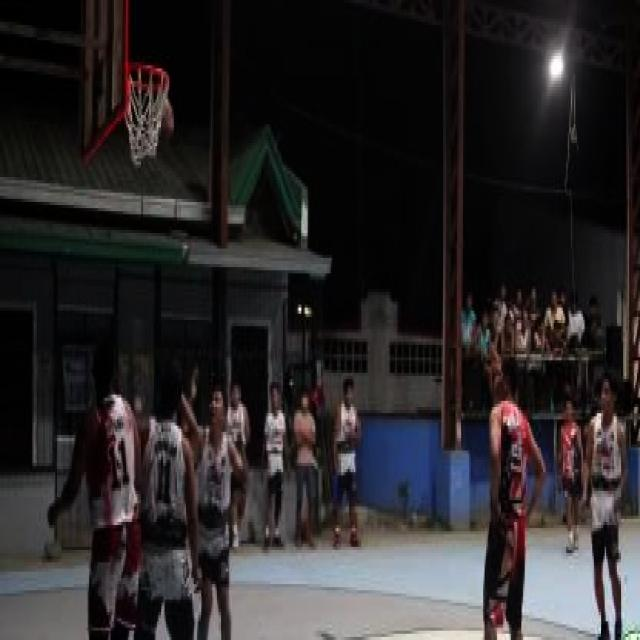ball: (152, 95, 180, 154)
hoop: (131, 60, 170, 96)
